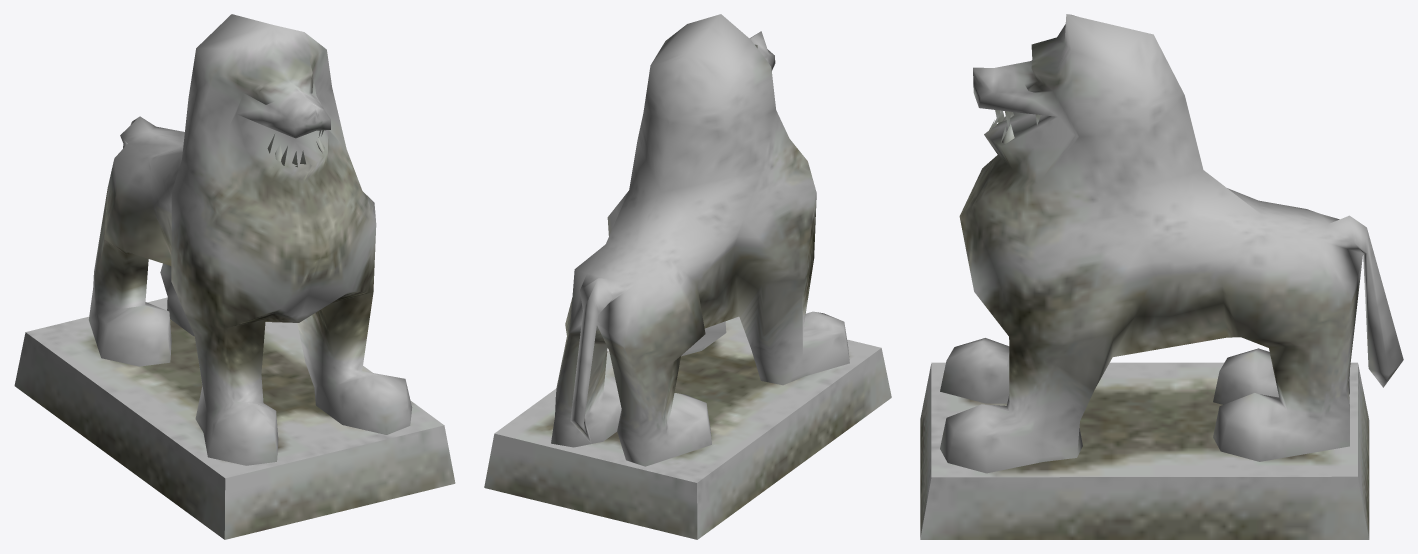
File: general_obj_lionstoneimage_lod_01.fbx
3 views of the same model, side by side, from view 1: azimuth 30°, elevation 25°; view 2: azimuth 150°, elevation 25°; view 3: azimuth 270°, elevation 25° (orthographic). The views are drawn at different scales.
Parts seen in each view (by area): view 1: Object19; view 2: Object19; view 3: Object19.
Boxes of the visible parts, x1,y1,x2,y2 form: Object19: (14,14,455,539); Object19: (484,14,891,539); Object19: (920,14,1403,539).
Size of the model in its own units: 2.77 by 5.01 by 4.71.
